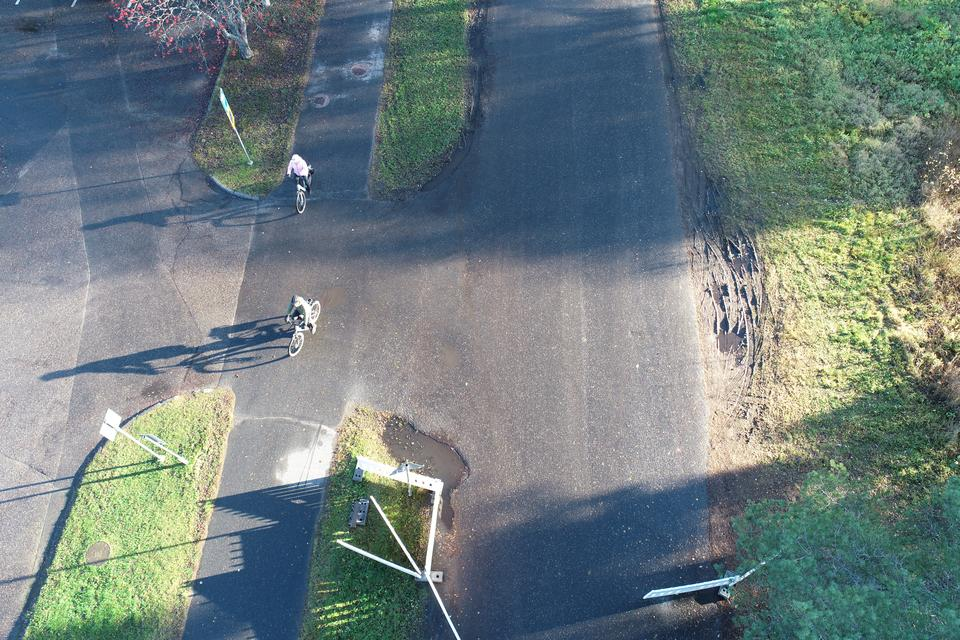intersection: (0, 150, 741, 492)
